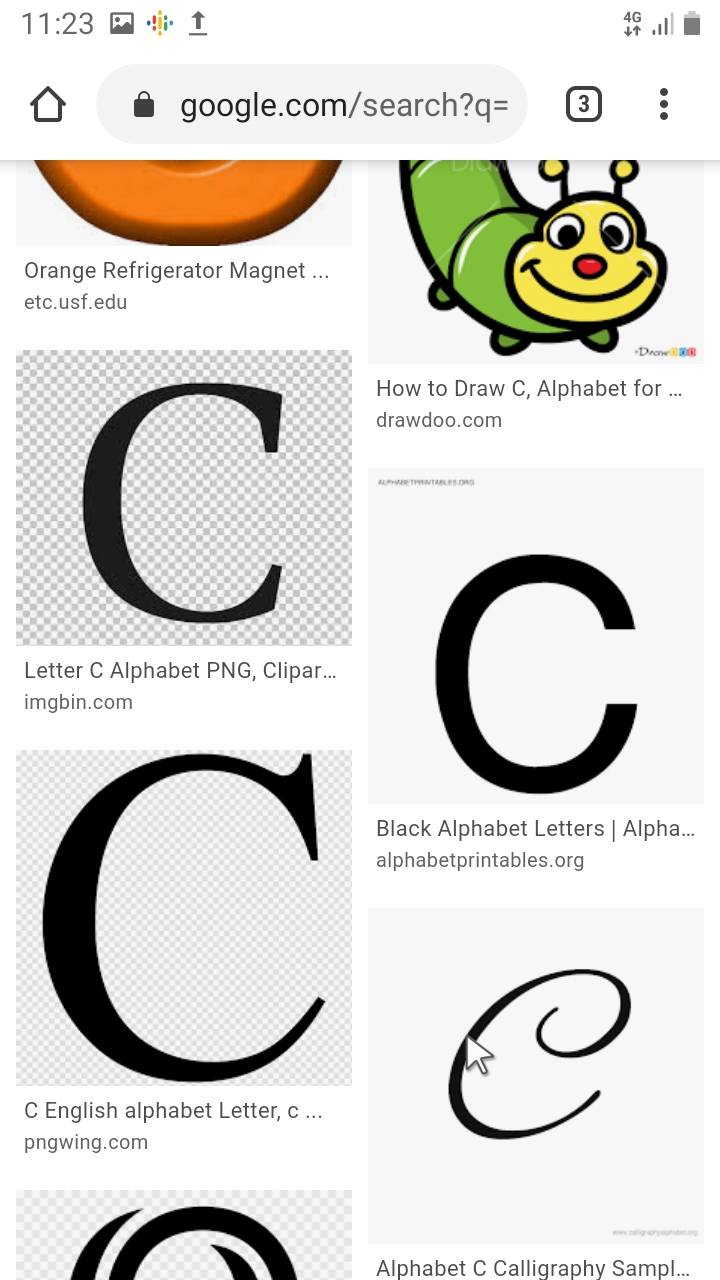zone C: (31, 751, 345, 1088), (70, 368, 319, 637), (421, 537, 657, 806), (427, 949, 623, 1166)
